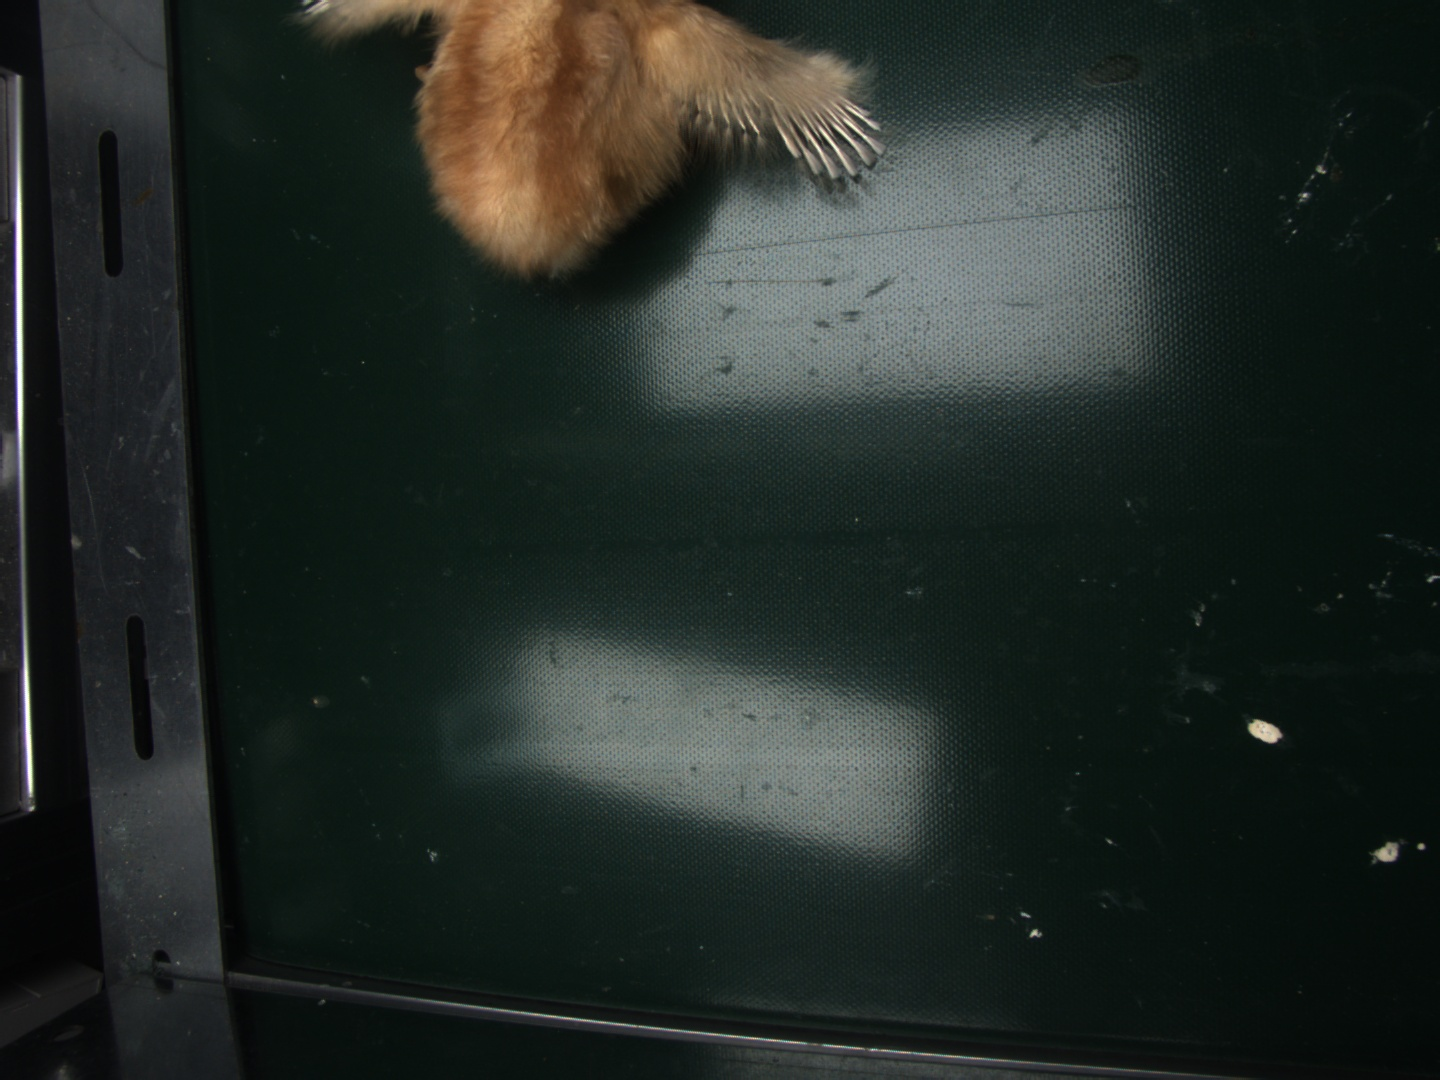female: (779, 93, 874, 167)
